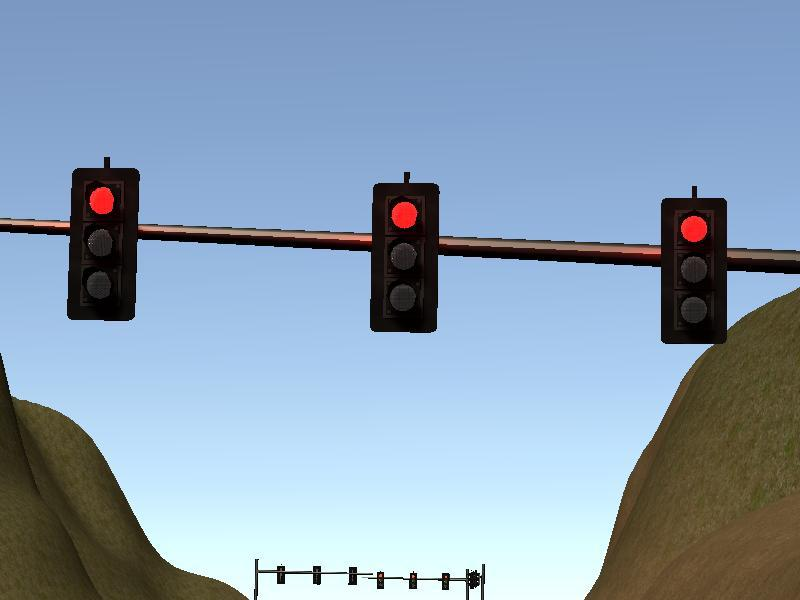Red: (662, 196, 728, 345), (371, 183, 436, 333), (72, 167, 133, 320)
